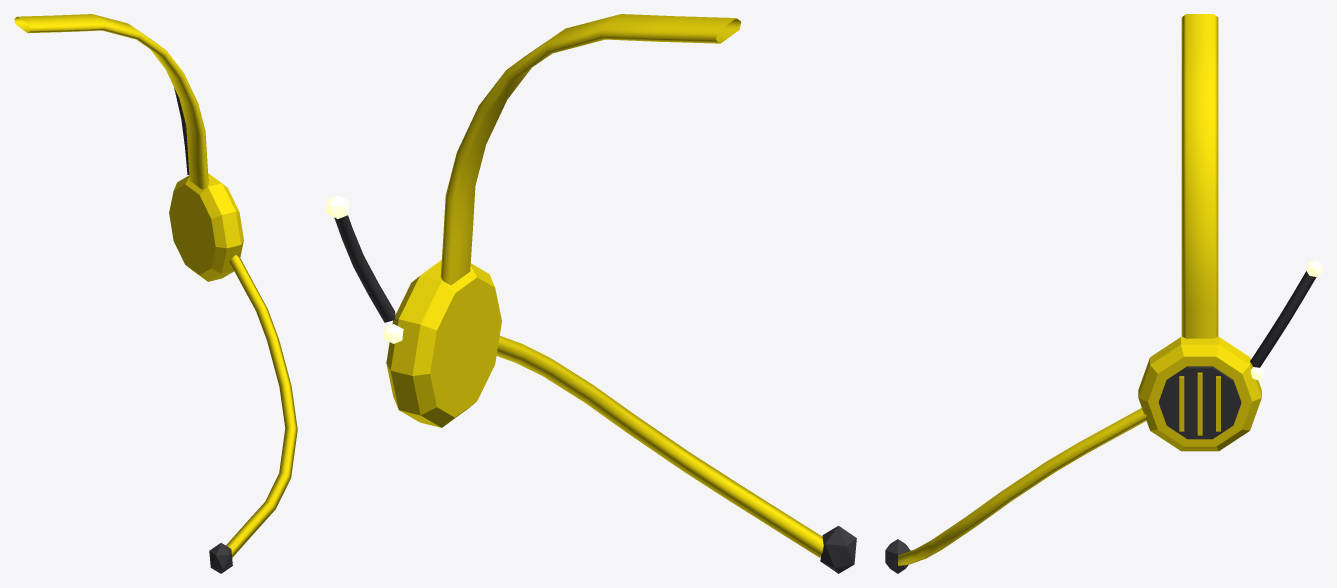
File: earpiece.glb
3 renders of one model, left to right at view 1: azimuth 30°, elevation 25°; view 2: azimuth 150°, elevation 25°; view 3: azimuth 270°, elevation 25°, orthographic. The views are drawn at different scales.
Visible parts, largest first — view 1: earpiece; view 2: earpiece; view 3: earpiece.
Part boxes in pixels (bbox=[...]): earpiece: bbox=[14, 14, 297, 573]; earpiece: bbox=[326, 14, 856, 573]; earpiece: bbox=[885, 14, 1322, 573].
Bounding box in the file's own units: 0.1183 × 0.2534 × 0.1911.
